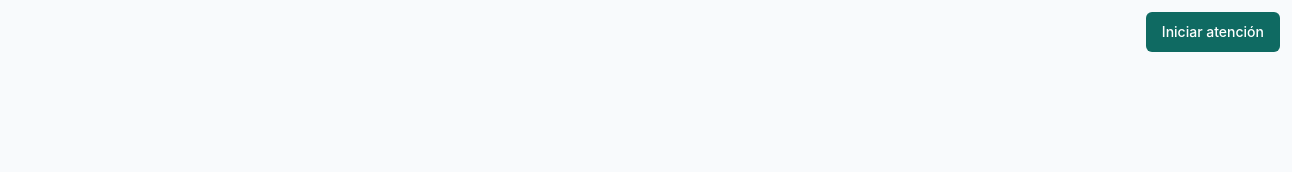
Test: StartEncounterButton › crea el encuentro desde la cita y navega al editor
Click the button with aria-label "Iniciar atención: Rosa Quispe": (1213, 32) left=1146, top=12, right=1280, bottom=52
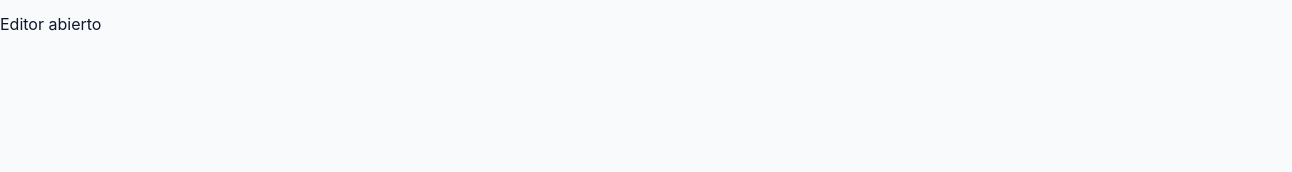
Result: the text "Editor abierto" is shown at left=0, top=14, right=101, bottom=34
